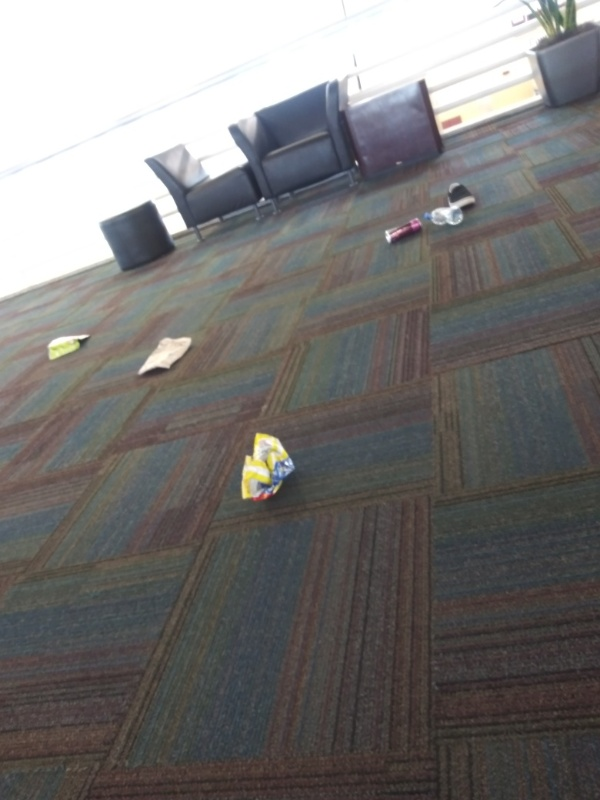bag: (235, 429, 303, 509), (131, 333, 195, 378), (44, 330, 90, 365)
bottle: (419, 206, 469, 228)
can: (380, 212, 429, 246)
